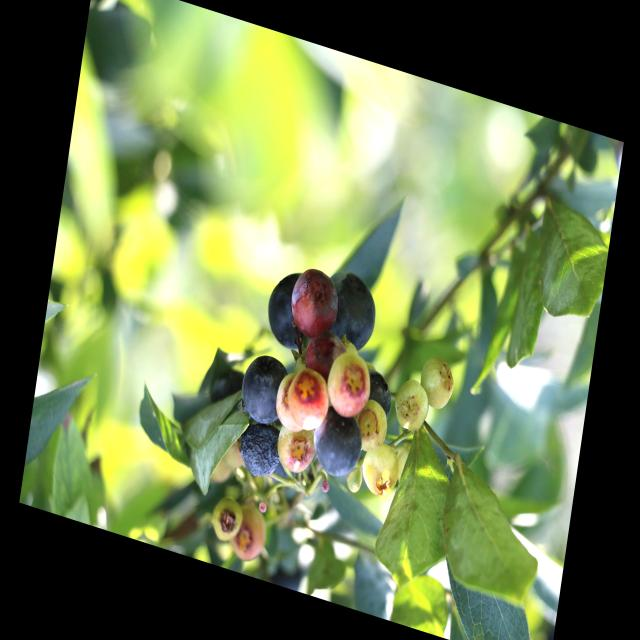blueberry: (319, 257, 386, 361), (304, 399, 366, 487), (261, 261, 317, 356), (232, 345, 292, 433), (235, 414, 288, 490), (358, 360, 398, 424)
blueberry-halfripe: (323, 345, 370, 419), (290, 268, 338, 339), (286, 368, 331, 434), (232, 503, 270, 565), (301, 332, 342, 382)
blueberry-unripe: (360, 439, 401, 504), (390, 374, 432, 436), (416, 354, 455, 415), (276, 429, 316, 480), (356, 398, 390, 454), (212, 498, 240, 543)
